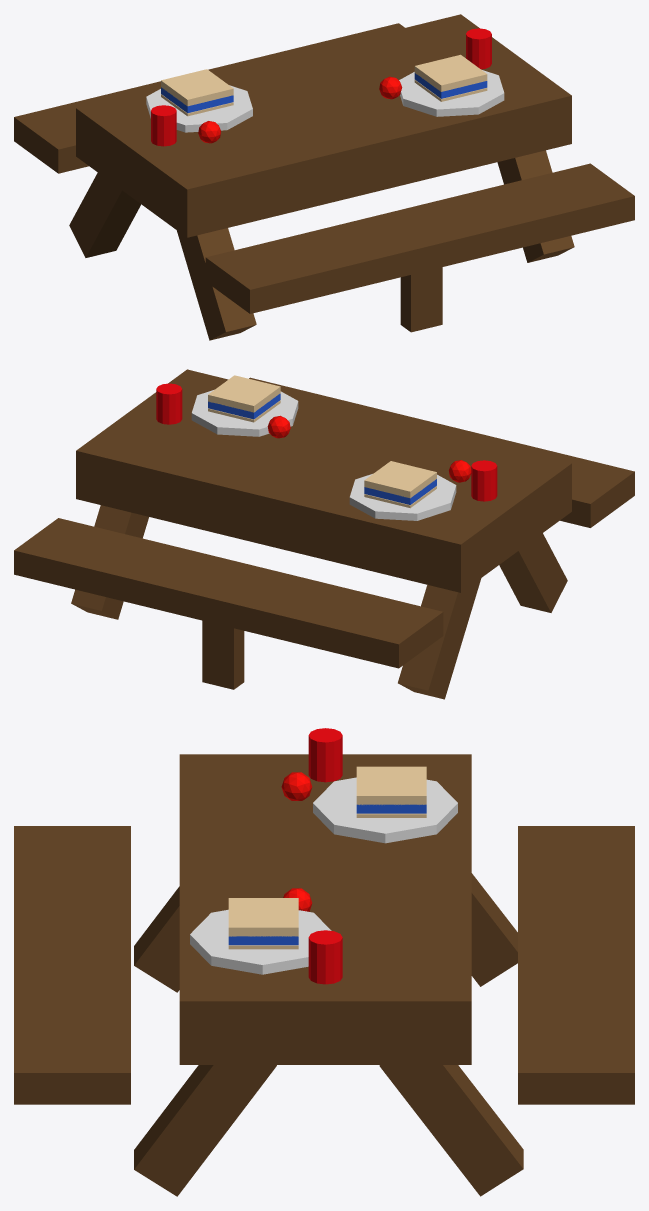
Rendered from picnictable.glb.
The picture shows the model from 3 angles, top to bottom: view 1: azimuth 30°, elevation 25°; view 2: azimuth 150°, elevation 25°; view 3: azimuth 270°, elevation 25°; orthographic projection. The views are drawn at different scales.
Parts seen in each view (by area): view 1: Cube.003, Cube.002, Cube, Cube.006, Cube.005, Cube.007, Cylinder, Cube.001, Cylinder.001, Cube.014, Cube.011, Cylinder.003 (+3 smaller); view 2: Cube.003, Cube, Cube.002, Cube.005, Cube.006, Cube.008, Cylinder.001, Cylinder, Cube.004, Cube.014, Cube.011, Cylinder.002 (+3 smaller); view 3: Cube.003, Cube, Cube.002, Cube.004, Cube.001, Cylinder.001, Cylinder, Cube.005, Cube.006, Cube.014, Cube.011, Cylinder.003 (+4 smaller).
Boxes of the visible parts, x1,y1,x2,y2 form: Cube.003: (76, 14, 571, 237); Cube.002: (205, 163, 634, 313); Cube: (14, 23, 404, 173); Cube.006: (177, 228, 256, 340); Cube.005: (69, 172, 140, 257); Cube.007: (400, 267, 442, 332); Cylinder: (399, 69, 504, 116); Cube.001: (497, 150, 574, 262); Cylinder.001: (146, 85, 252, 132); Cube.014: (414, 54, 487, 91); Cube.011: (161, 69, 233, 106); Cylinder.003: (151, 105, 176, 146); Cube.003: (76, 369, 571, 592); Cube: (14, 518, 443, 668); Cube.002: (249, 377, 634, 527); Cube.005: (398, 578, 481, 699); Cube.006: (499, 533, 567, 612); Cube.008: (202, 620, 244, 689); Cylinder.001: (349, 474, 456, 520); Cylinder: (191, 389, 298, 436); Cube.004: (71, 505, 148, 619); Cube.014: (208, 375, 280, 412); Cube.011: (364, 461, 436, 498); Cylinder.002: (156, 383, 182, 424); Cube.003: (179, 754, 471, 1064); Cube: (518, 826, 634, 1104); Cube.002: (14, 826, 130, 1104); Cube.004: (379, 1065, 523, 1196); Cube.001: (134, 1065, 276, 1196); Cylinder.001: (313, 777, 457, 843); Cylinder: (190, 909, 331, 974); Cube.005: (471, 873, 517, 986); Cube.006: (134, 886, 179, 992); Cube.014: (228, 898, 298, 936); Cube.011: (356, 766, 426, 804); Cylinder.003: (308, 728, 342, 782).
Bounding box in the file's own units: 5 × 2.31 × 5.31.
